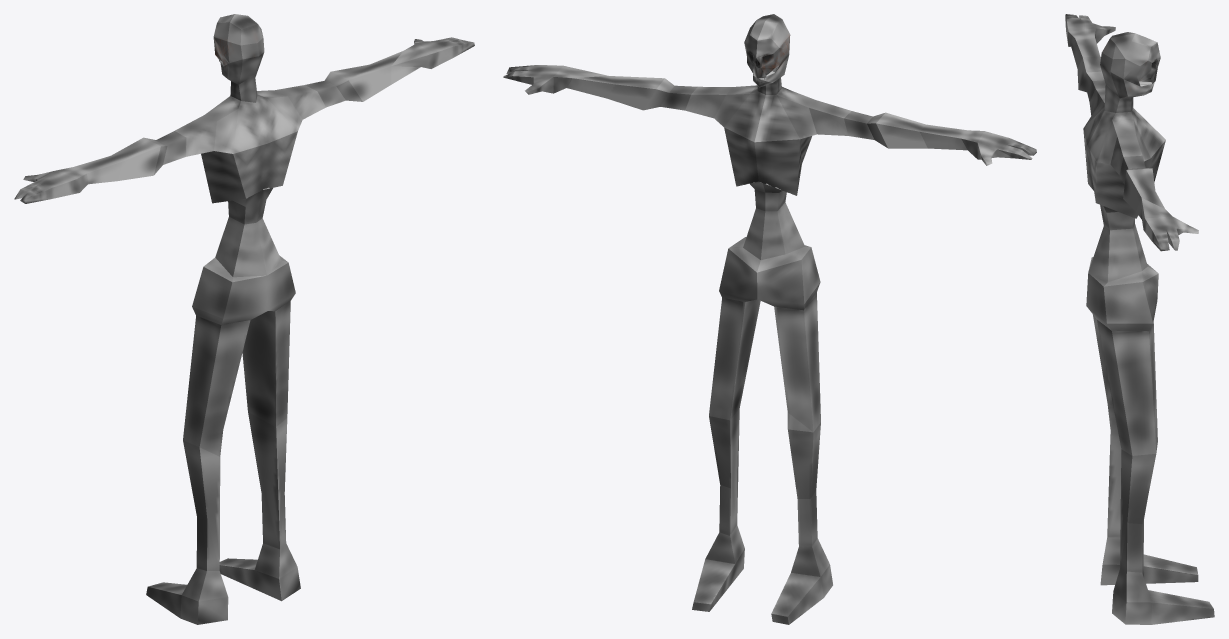
Rendered from Robopicotado (2).fbx.
The picture shows the model from 3 angles, left to right: view 1: azimuth 30°, elevation 25°; view 2: azimuth 150°, elevation 25°; view 3: azimuth 270°, elevation 25°; orthographic projection. The views are drawn at different scales.
Visible parts, largest first — view 1: Cube_015, Cube_010, Cube_013, Cube_014, Cube_011, Cube_009, Cube_008, Cube_012, Cube_017, Cube_002, Cube_020, Cube_007 (+5 smaller); view 2: Cube_015, Cube_010, Cube_013, Cube_011, Cube_018, Cube_002, Cube_008, Cube_014, Cube_009, Cube_017, Cube_020, Cube_019 (+6 smaller); view 3: Cube_013, Cube_017, Cube_011, Cube_006, Cube_014, Cube_012, Cube_008, Cube_015, Cube_000, Cube_016, Cube_002, Cube_009 (+4 smaller).
Boxes of the visible parts, x1,y1,x2,y2 form: Cube_015: [201, 96, 288, 277]; Cube_010: [183, 315, 250, 456]; Cube_013: [242, 301, 290, 426]; Cube_014: [256, 85, 325, 189]; Cube_011: [219, 494, 300, 601]; Cube_009: [183, 440, 220, 570]; Cube_008: [146, 568, 228, 624]; Cube_012: [248, 412, 287, 548]; Cube_017: [221, 255, 295, 324]; Cube_002: [305, 51, 402, 107]; Cube_020: [74, 137, 160, 184]; Cube_007: [213, 22, 258, 102]; Cube_015: [754, 87, 816, 260]; Cube_010: [774, 292, 820, 432]; Cube_013: [709, 297, 760, 420]; Cube_011: [692, 485, 744, 611]; Cube_018: [757, 246, 820, 310]; Cube_002: [567, 76, 697, 110]; Cube_008: [771, 538, 832, 624]; Cube_014: [685, 85, 765, 141]; Cube_009: [788, 422, 820, 546]; Cube_017: [719, 208, 809, 301]; Cube_020: [876, 112, 967, 150]; Cube_019: [809, 100, 887, 147]; Cube_013: [1097, 319, 1157, 455]; Cube_017: [1086, 224, 1158, 331]; Cube_011: [1112, 520, 1214, 624]; Cube_006: [1100, 32, 1160, 112]; Cube_014: [1087, 108, 1165, 202]; Cube_012: [1120, 449, 1156, 567]; Cube_008: [1100, 537, 1198, 585]; Cube_015: [1083, 99, 1134, 286]; Cube_000: [1136, 198, 1198, 251]; Cube_016: [1096, 140, 1165, 218]; Cube_002: [1119, 155, 1164, 211]; Cube_009: [1107, 428, 1121, 537].
Size of the model in its own units: 180 by 203 by 48.31.
